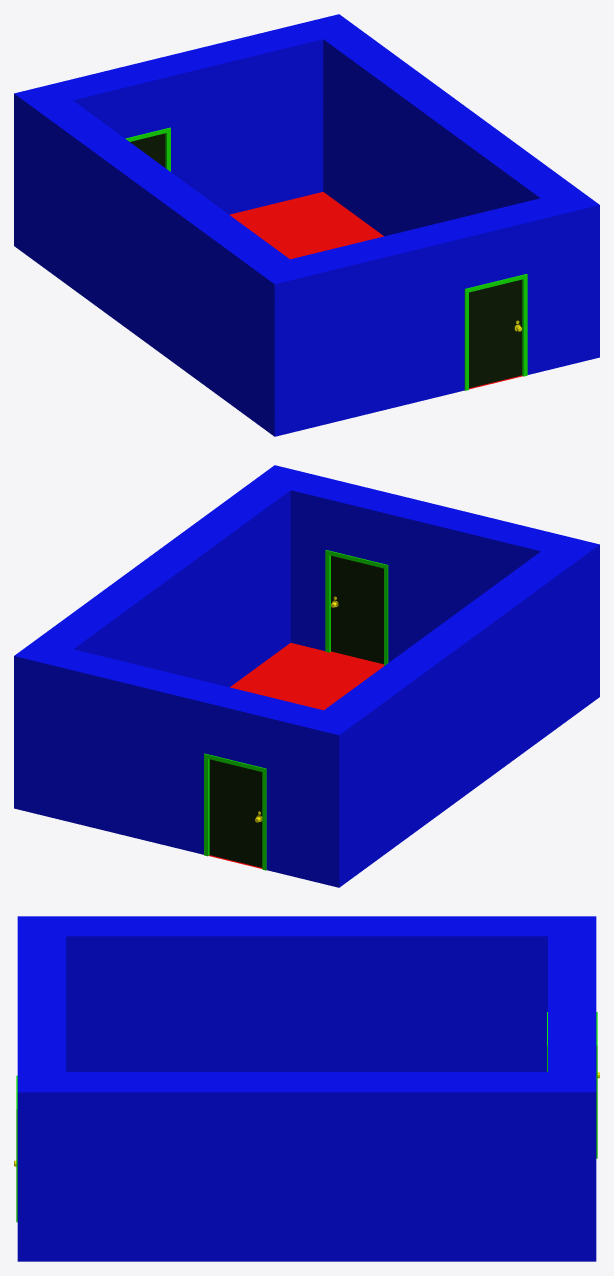
Rendered from Walls + Floor + Doors (Fixed V2).fbx.
The picture shows the model from 3 angles, top to bottom: view 1: azimuth 30°, elevation 25°; view 2: azimuth 150°, elevation 25°; view 3: azimuth 270°, elevation 25°; orthographic projection. The views are drawn at different scales.
Parts seen in each view (by area): view 1: HR0 Walls, HR0 Floor LowPoly, HR0 Locked Door (Back Wall), HR0 Locked Doorway (Back Wall), HR0 Door; view 2: HR0 Walls, HR0 Floor LowPoly, HR0 Door, HR0 Locked Door (Back Wall), HR0 Door Way, HR0 Locked Doorway (Back Wall); view 3: HR0 Walls.
Boxes of the visible parts, x1,y1,x2,y2 form: HR0 Walls: (14, 14, 599, 436); HR0 Floor LowPoly: (229, 192, 522, 389); HR0 Locked Door (Back Wall): (469, 279, 521, 388); HR0 Locked Doorway (Back Wall): (464, 274, 527, 390); HR0 Door: (130, 133, 165, 167); HR0 Walls: (14, 465, 599, 887); HR0 Floor LowPoly: (209, 643, 383, 868); HR0 Door: (209, 759, 262, 867); HR0 Locked Door (Back Wall): (331, 555, 383, 664); HR0 Door Way: (204, 753, 266, 870); HR0 Locked Doorway (Back Wall): (325, 550, 388, 665); HR0 Walls: (17, 916, 596, 1261).
Bounding box in the file's own units: 338 × 152 × 476.
